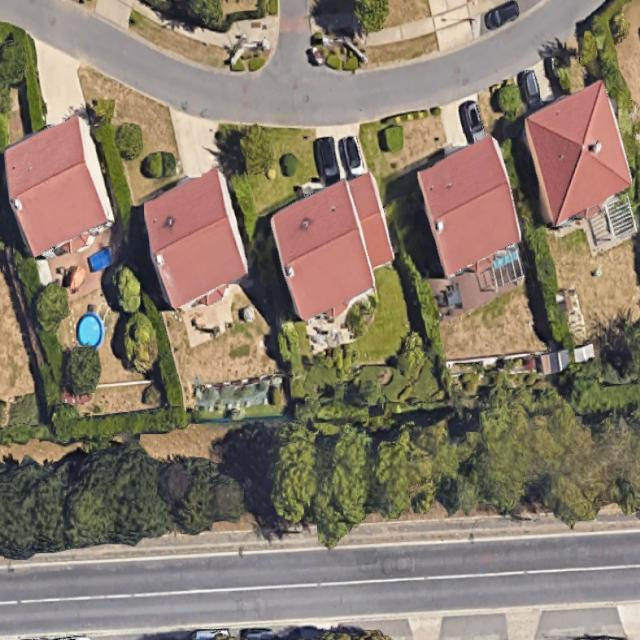maison: (263, 171, 408, 326), (0, 113, 118, 264), (518, 80, 635, 228), (135, 168, 253, 313), (412, 133, 524, 280)
